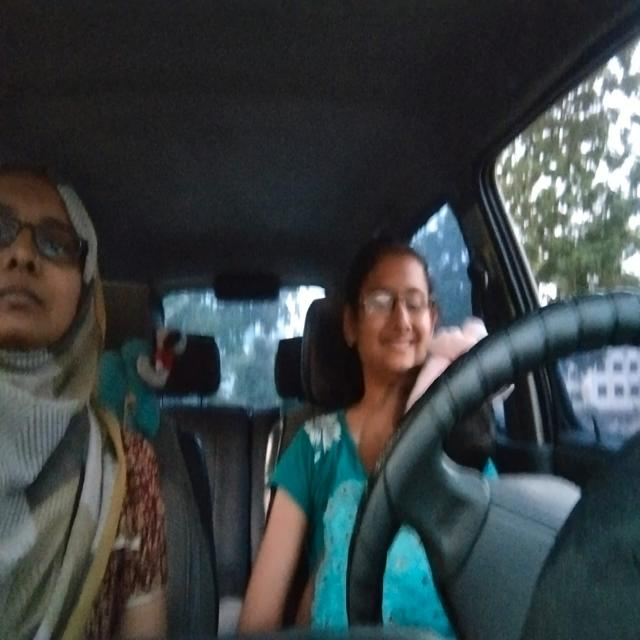child: (355, 368, 452, 468)
person: (2, 163, 92, 356), (335, 247, 446, 369)
